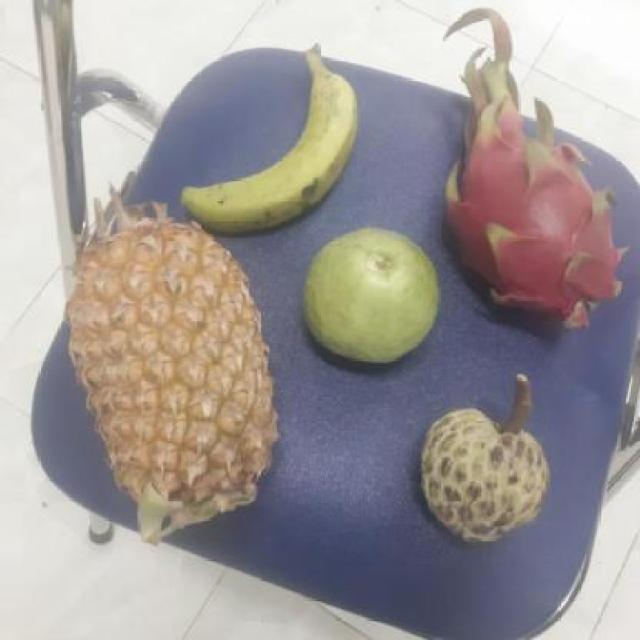banana: (170, 48, 355, 230)
dragon fruit: (434, 119, 614, 330)
guava: (294, 228, 438, 362)
pineapple: (60, 215, 275, 530)
sugar apple: (410, 406, 548, 545)
